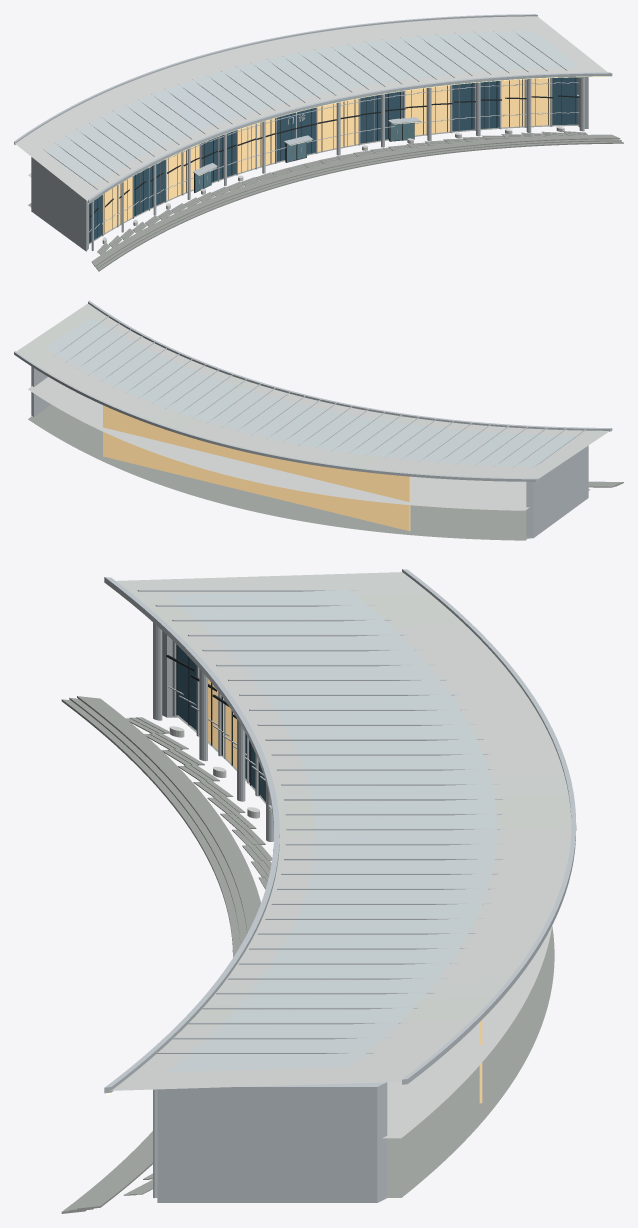
File: outpatient.glb
The picture shows the model from 3 angles, top to bottom: view 1: azimuth 30°, elevation 25°; view 2: azimuth 150°, elevation 25°; view 3: azimuth 270°, elevation 25°; orthographic projection. The views are drawn at different scales.
Visible parts, largest first — view 1: outpatient_glassLight, outpatient_roof, outpatient_ivory, outpatient_warmGlass, outpatient_glass, outpatient_stone, EntranceCraft_stone, EntranceCraft_black, EntranceCraft_ivory, outpatient_black, outpatient_ivory_detail, outpatient_glow; view 2: outpatient_roof, outpatient_glassLight, outpatient_ivory, outpatient_stone, outpatient_warmGlass; view 3: outpatient_glassLight, outpatient_roof, outpatient_ivory, outpatient_stone, EntranceCraft_stone, outpatient_glass, outpatient_warmGlass.
Part boxes in pixels (box(x1,y1,x2,y2)): outpatient_glassLight: box(45, 31, 578, 192); outpatient_roof: box(15, 16, 607, 201); outpatient_ivory: box(14, 14, 612, 251); outpatient_warmGlass: box(103, 78, 550, 233); outpatient_glass: box(89, 77, 577, 242); outpatient_stone: box(28, 124, 623, 271); EntranceCraft_stone: box(97, 131, 587, 254); EntranceCraft_black: box(90, 77, 575, 242); EntranceCraft_ivory: box(89, 82, 579, 232); outpatient_black: box(90, 95, 579, 216); outpatient_ivory_detail: box(121, 78, 550, 223); outpatient_glow: box(88, 76, 611, 203); outpatient_roof: box(16, 303, 609, 510); outpatient_glassLight: box(45, 317, 578, 466); outpatient_ivory: box(14, 300, 612, 538); outpatient_stone: box(28, 404, 623, 540); outpatient_warmGlass: box(103, 405, 410, 531); outpatient_glassLight: box(167, 589, 497, 1072); outpatient_roof: box(110, 572, 571, 1138); outpatient_ivory: box(104, 569, 576, 1202); outpatient_stone: box(61, 696, 554, 1213); EntranceCraft_stone: box(123, 717, 272, 1195); outpatient_glass: box(177, 646, 265, 801); outpatient_warmGlass: box(208, 679, 482, 1103).
Bounding box in the file's own units: 127 × 15.4 × 53.73.
